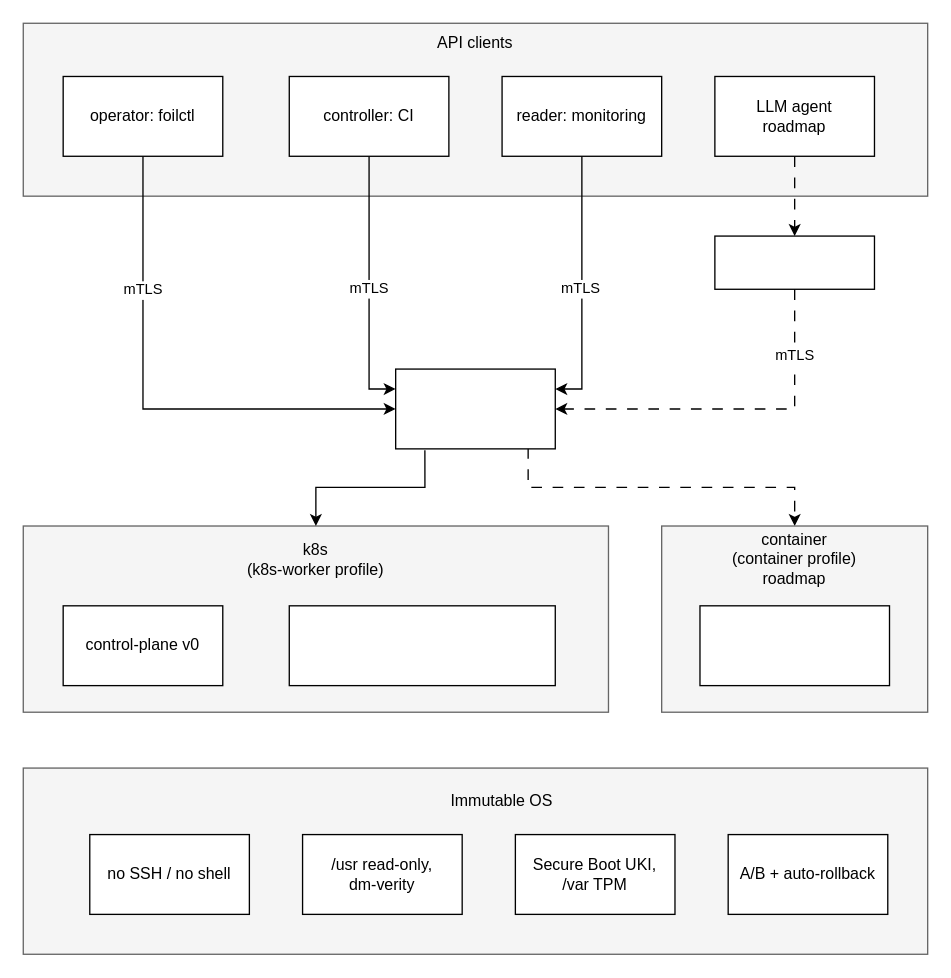
This 951x978 diagram has some shape labels left out. Each missing label, with the centre of its shape:
foil-agent gRPC API, mTLS: pixel 474 408
MCP adapter roadmap: pixel 794 262
Rootless Podman or Docker: pixel 794 645
worker gpu: NVIDIA 610, experimental: pixel 421 645
